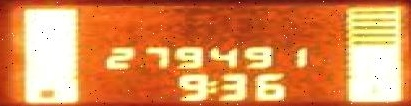1: (291, 45, 307, 68)
2: (102, 45, 133, 68)
3: (213, 72, 244, 99)
4: (205, 46, 234, 67)
6: (252, 72, 283, 101)
7: (140, 46, 166, 67)
9: (174, 72, 205, 101), (172, 44, 203, 68), (239, 44, 270, 67)
X: (205, 79, 216, 92)
